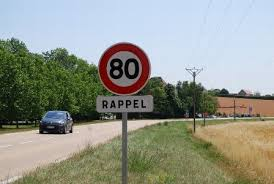Speed_limit_80km: (97, 42, 152, 95)
